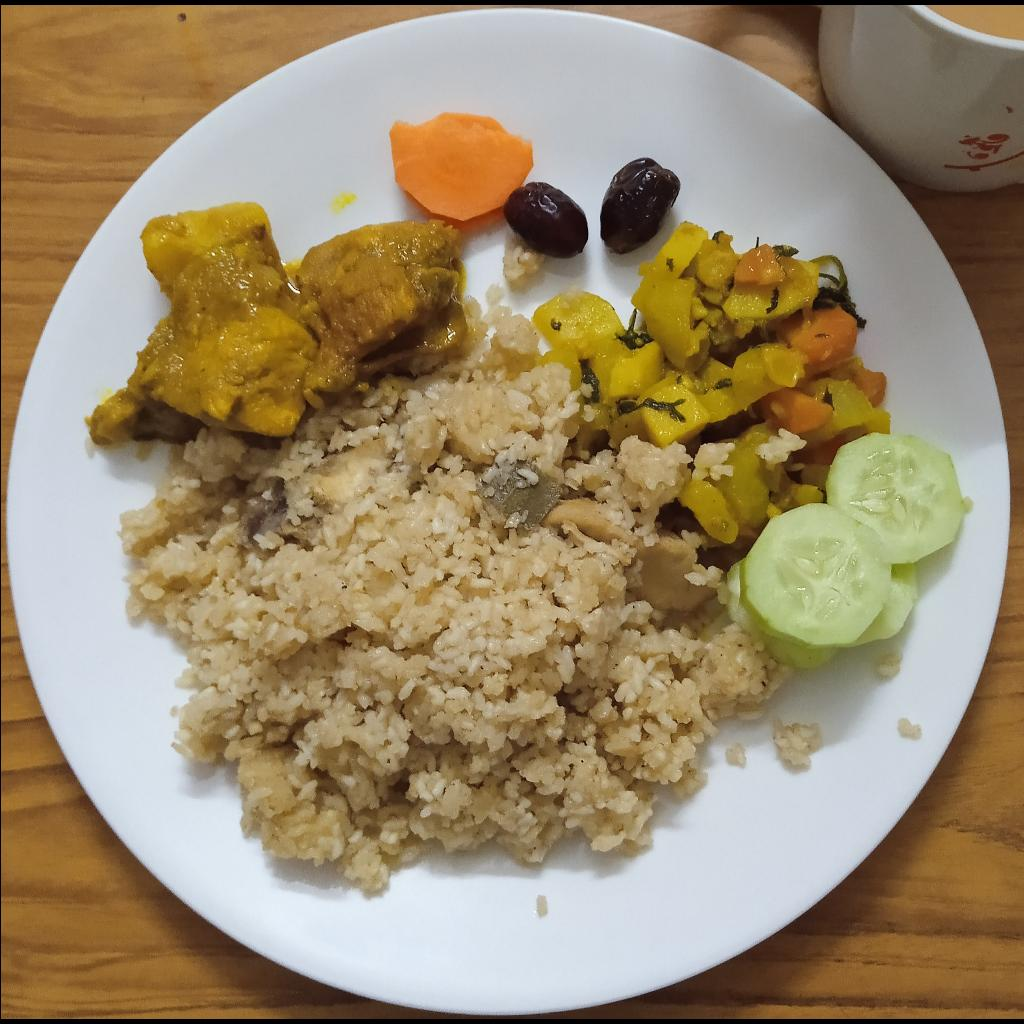biriyani: (117, 283, 817, 899), (502, 231, 542, 292)
carrot: (387, 114, 534, 230)
chicken: (82, 204, 468, 449)
cucumber: (727, 434, 965, 670)
dates: (599, 157, 679, 255), (504, 181, 589, 260)
vegetable: (532, 221, 892, 547)
